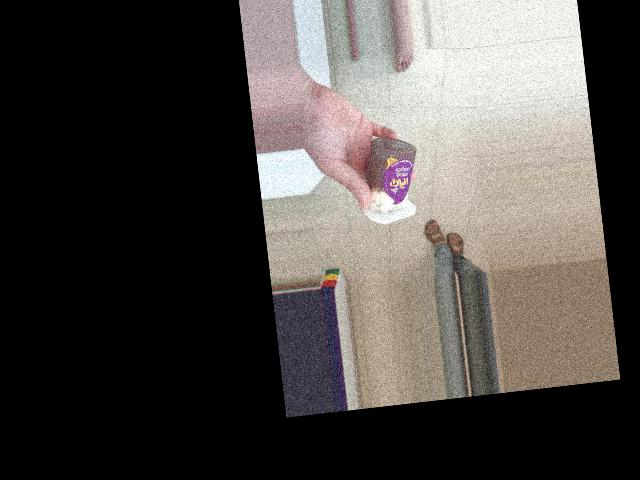milky: (351, 137, 415, 220)
